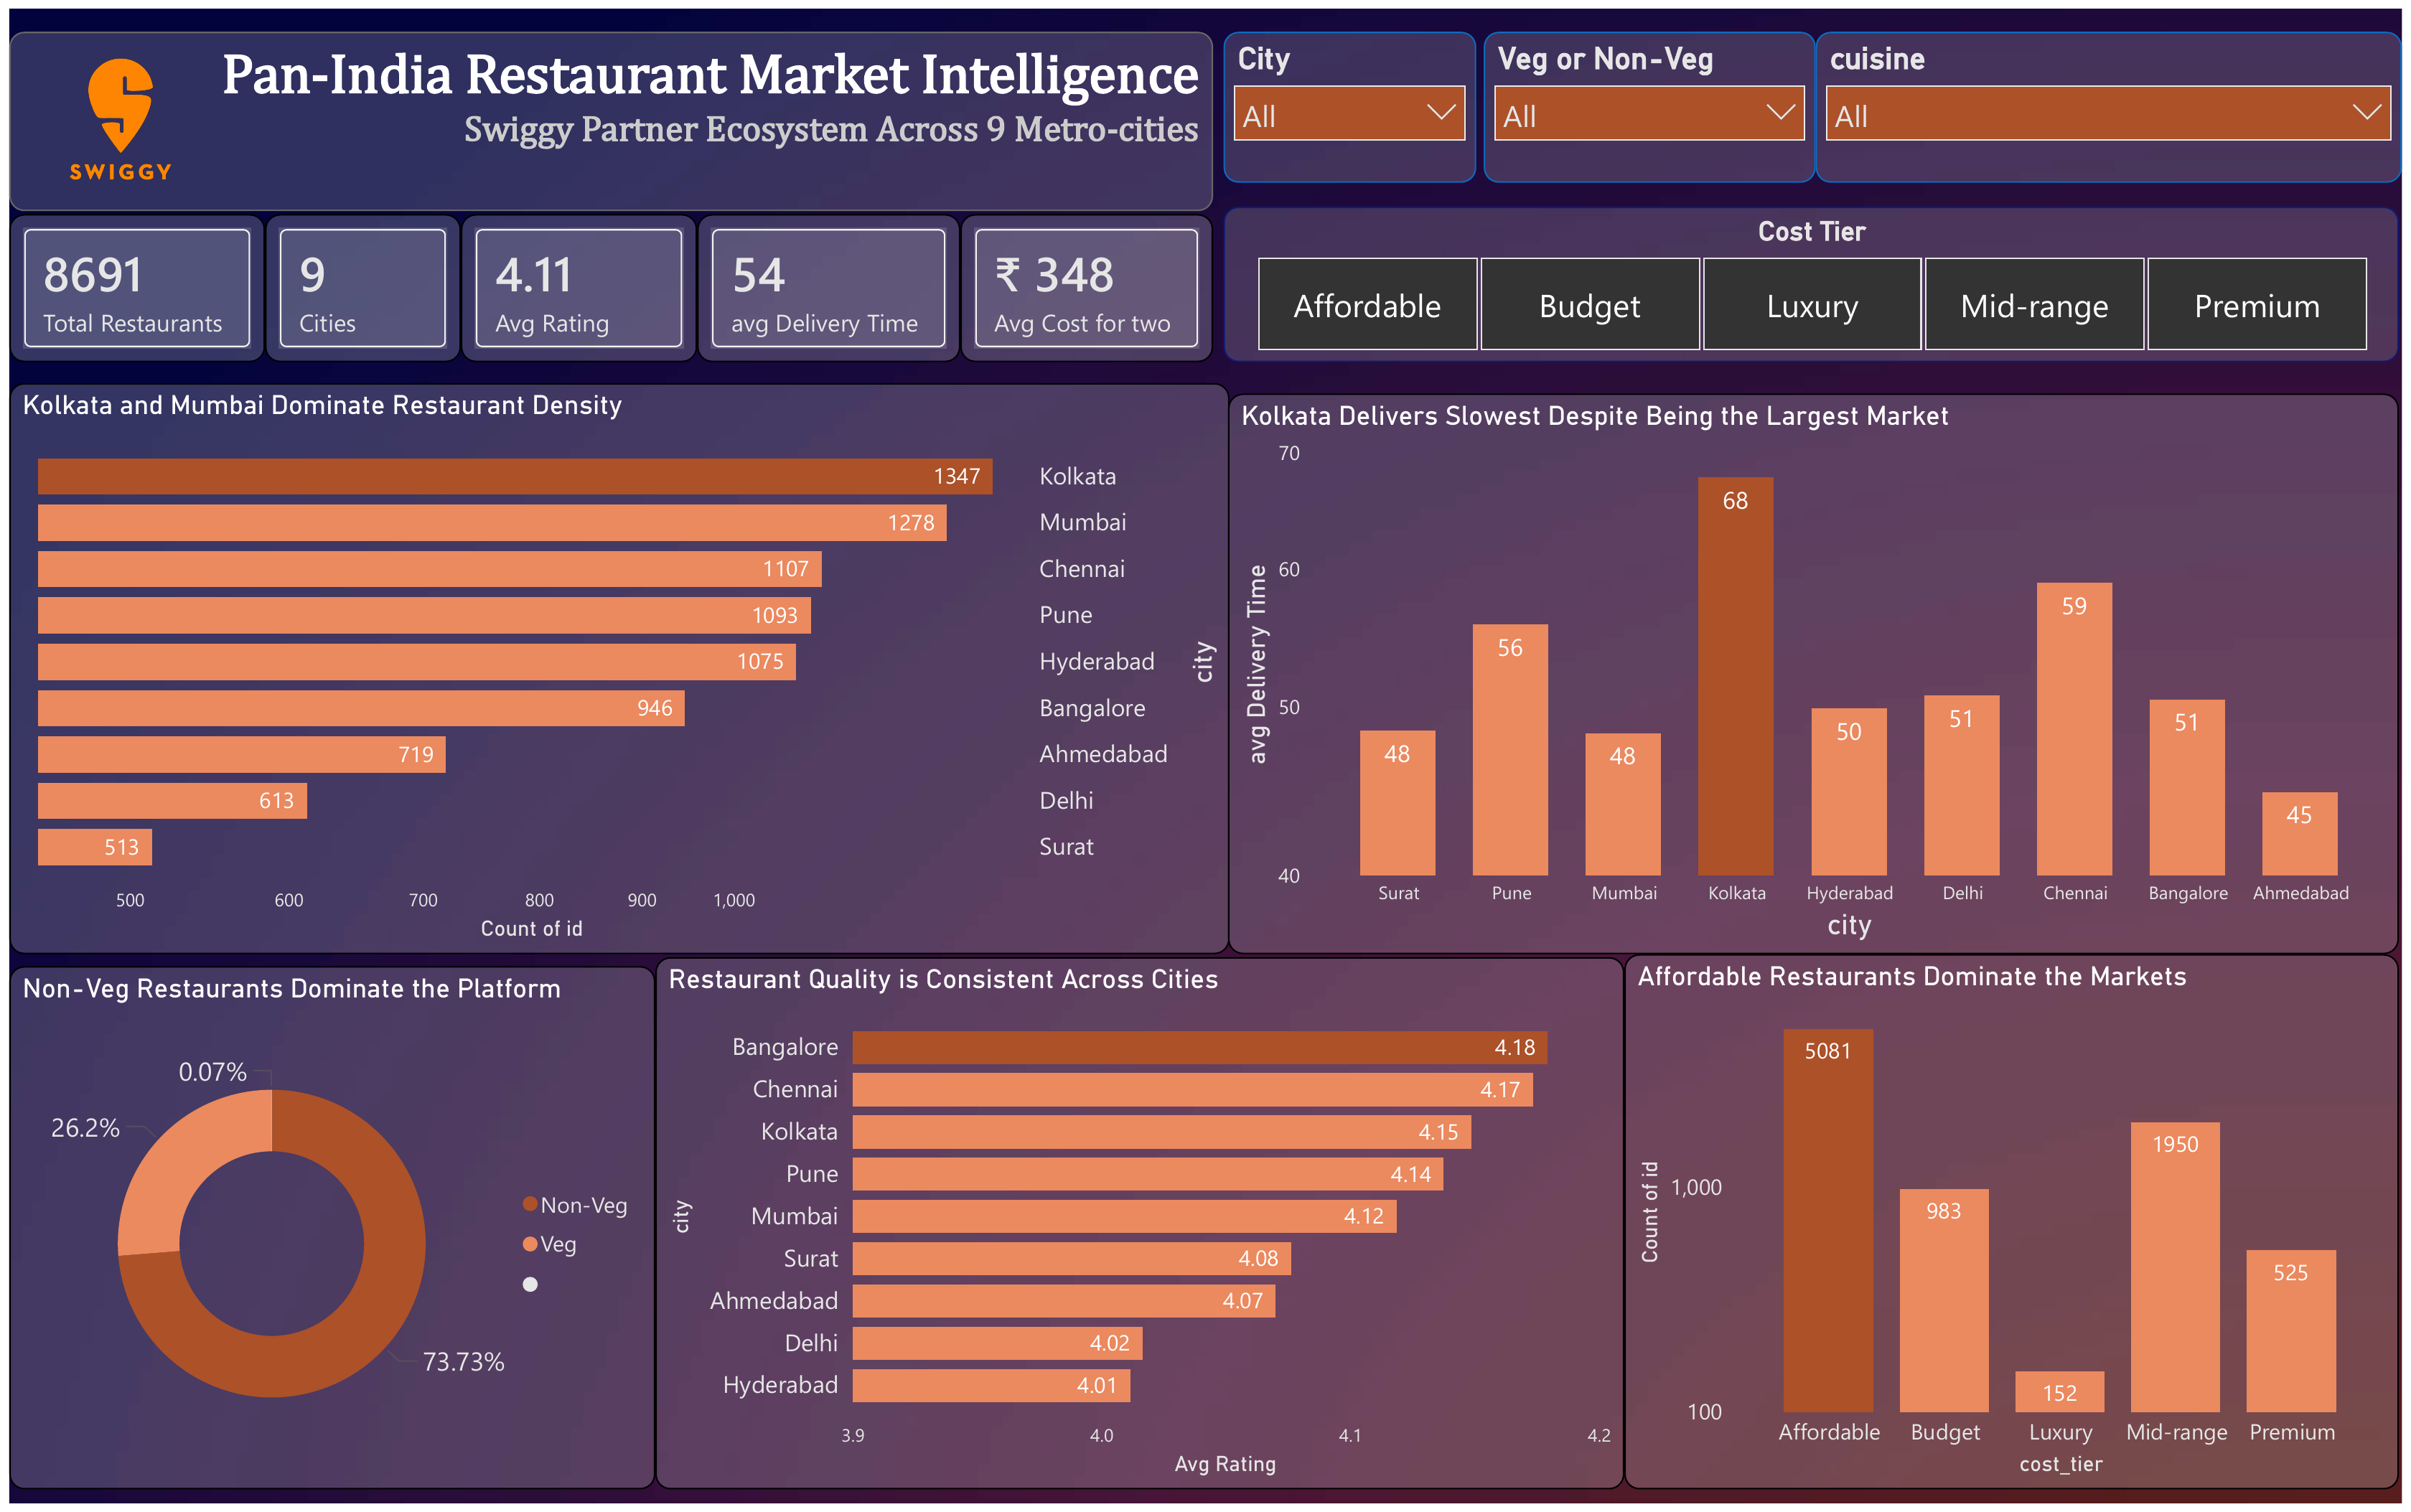

Layout of this report page (visuals, bound fields, positions):
{"tool":"powerbi","page":{"name":"Executive Dashboard","canvas":[1600,1000],"ordinal":0},"visuals":[{"type":"textbox","box":[0,15.1,805,119.9],"z":0,"group":"g1"},{"type":"cardVisual","fields":{"Data":["Measures (2).Total Restaurants"]},"box":[0,136.8,171.1,99.4],"z":1000,"group":"g1"},{"type":"cardVisual","fields":{"Data":["Measures (2).Avg Rating"]},"box":[301.9,136.8,157.7,99.4],"z":2000,"group":"g1"},{"type":"cardVisual","fields":{"Data":["Measures (2).Avg Cost for two"]},"box":[635.6,136.8,169.4,99.4],"z":3000,"group":"g1"},{"type":"cardVisual","fields":{"Data":["Measures (2).avg Delivery Time"]},"box":[459.5,136.8,176.1,99.4],"z":4000,"group":"g1"},{"type":"clusteredBarChart","title":"Kolkata and Mumbai Dominate Restaurant Density","fields":{"Category":["restaurants_clean.city"],"Y":["CountNonNull(restaurants_clean.id)"]},"box":[0,250,816,382],"z":5000,"group":"g1"},{"type":"clusteredBarChart","title":"Restaurant Quality is Consistent Across Cities","fields":{"Category":["restaurants_clean.city"],"Y":["Measures (2).Avg Rating"]},"box":[432,634,648,356],"z":6000,"group":"g1"},{"type":"cardVisual","fields":{"Data":["Measures (2).Cities"]},"box":[171.1,136.8,130.8,99.4],"z":7000,"group":"g1"},{"type":"columnChart","title":"Kolkata Delivers Slowest Despite Being the Largest Market","fields":{"Category":["restaurants_clean.city"],"Y":["Measures (2).avg Delivery Time"]},"box":[815.1,256.7,783.2,375.2],"z":8000,"group":"g1"},{"type":"clusteredColumnChart","title":"Affordable  Restaurants Dominate the Markets","fields":{"Category":["restaurants_clean.cost_tier"],"Y":["CountNonNull(restaurants_clean.id)"]},"box":[1080.1,631.9,518.2,358.1],"z":9000,"group":"g1"},{"type":"slicer","fields":{"Values":["restaurants_clean.city"]},"box":[811.7,15.1,169.4,101.1],"z":10000,"group":"g1"},{"type":"slicer","fields":{"Values":["restaurants_clean.veg"]},"box":[986.2,15.1,221.4,101.1],"z":11000,"group":"g1"},{"type":"slicer","title":"Cost Tier","fields":{"Values":["restaurants_clean.cost_tier"]},"box":[811.7,131.6,786.6,104.5],"z":12000,"group":"g1"},{"type":"slicer","fields":{"Values":["restaurant_cuisines.cuisine"]},"box":[1207.5,15.1,392.5,101.1],"z":13000,"group":"g1"},{"type":"image","box":[0,10,149.3,126.8],"z":14000,"group":"g1"},{"type":"donutChart","title":"Non-Veg Restaurants Dominate the Platform","fields":{"Category":["restaurants_clean.veg"],"Y":["CountNonNull(restaurants_clean.id)"]},"box":[0,640,432,350],"z":15000,"group":"g1"},{"type":"group","id":"g1","title":"Group 1","box":[0,10,1600,980],"z":15001}]}

Visuals, with their boxes in screenshot pixels (x1, y1, x2, y2), scaled from the page's 1600x1000 canvas onto the 2411x1512 screenshot:
textbox: (x1=0, y1=23, x2=1213, y2=204)
cardVisual - Measures (2).Total Restaurants: (x1=0, y1=207, x2=258, y2=357)
cardVisual - Measures (2).Avg Rating: (x1=455, y1=207, x2=693, y2=357)
cardVisual - Measures (2).Avg Cost for two: (x1=958, y1=207, x2=1213, y2=357)
cardVisual - Measures (2).avg Delivery Time: (x1=693, y1=207, x2=958, y2=357)
"Kolkata and Mumbai Dominate Restaurant Density" clusteredBarChart: (x1=0, y1=378, x2=1230, y2=956)
"Restaurant Quality is Consistent Across Cities" clusteredBarChart: (x1=651, y1=959, x2=1627, y2=1497)
cardVisual - Measures (2).Cities: (x1=258, y1=207, x2=455, y2=357)
"Kolkata Delivers Slowest Despite Being the Largest Market" columnChart: (x1=1228, y1=388, x2=2408, y2=955)
"Affordable  Restaurants Dominate the Markets" clusteredColumnChart: (x1=1628, y1=955, x2=2408, y2=1497)
slicer - restaurants_clean.city: (x1=1223, y1=23, x2=1479, y2=176)
slicer - restaurants_clean.veg: (x1=1486, y1=23, x2=1820, y2=176)
"Cost Tier" slicer: (x1=1223, y1=199, x2=2408, y2=357)
slicer - restaurant_cuisines.cuisine: (x1=1820, y1=23, x2=2410, y2=176)
image: (x1=0, y1=15, x2=225, y2=207)
"Non-Veg Restaurants Dominate the Platform" donutChart: (x1=0, y1=967, x2=651, y2=1497)
"Group 1" group: (x1=0, y1=15, x2=2410, y2=1497)
